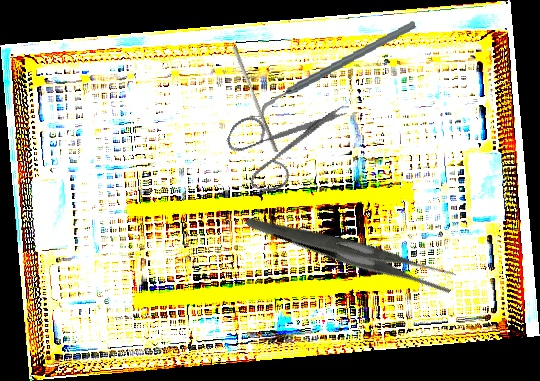Chopper: (251, 20, 423, 119)
Dressing Forceps: (245, 158, 460, 343)
Iris Scissors: (213, 67, 350, 210)
Pusher: (228, 46, 283, 153)
